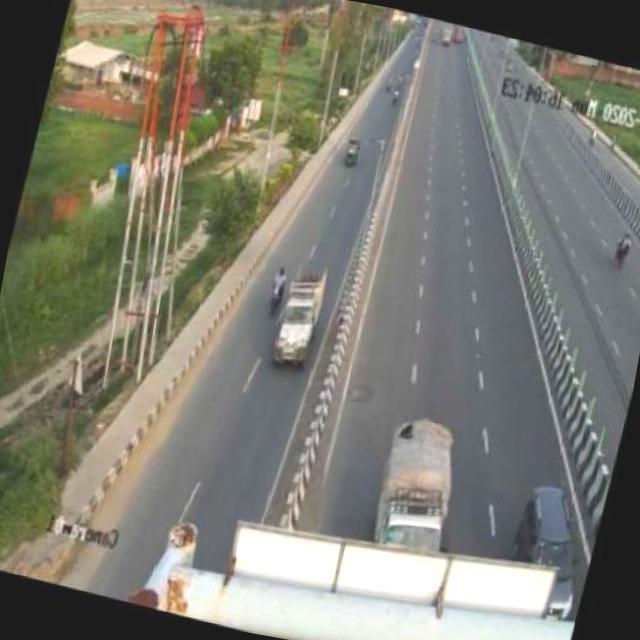car: (260, 252, 338, 380), (335, 132, 368, 177)
